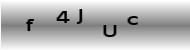4: (54, 9, 69, 24)
J: (75, 8, 82, 24)
U: (101, 23, 117, 37)
c: (126, 15, 138, 25)
f: (25, 18, 34, 32)
